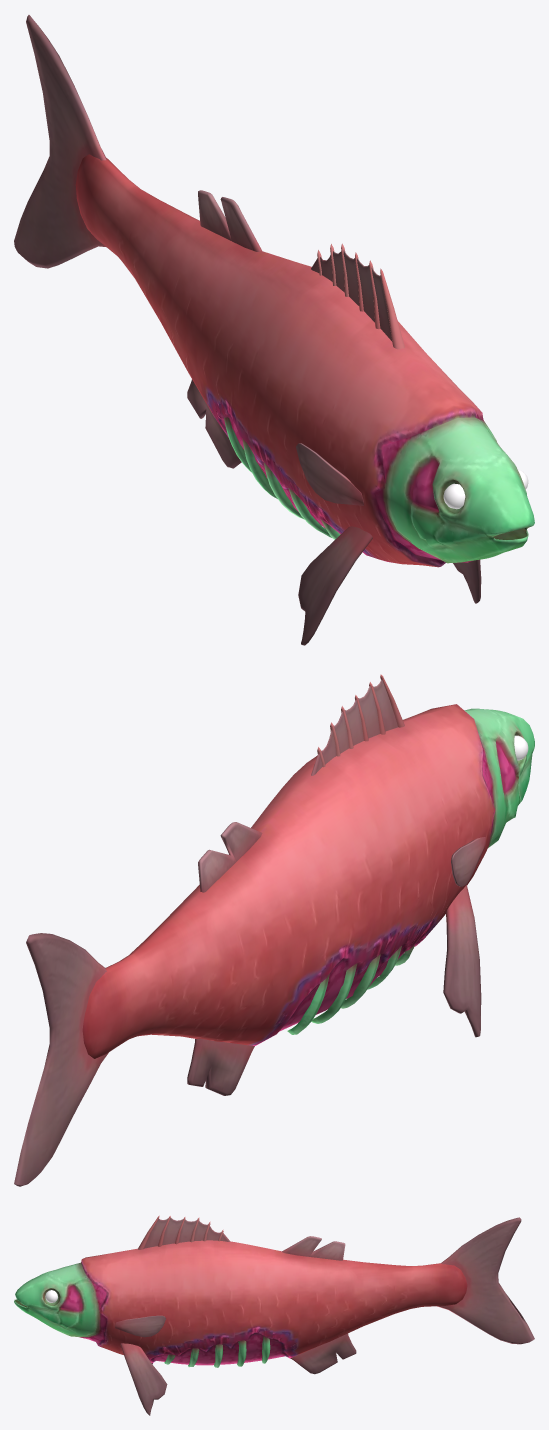
The picture shows the model from 3 angles, top to bottom: view 1: azimuth 30°, elevation 25°; view 2: azimuth 150°, elevation 25°; view 3: azimuth 270°, elevation 25°; orthographic projection. The views are drawn at different scales.
Parts seen in each view (by area): view 1: SM_Fish_Bass_Undead_01_LOD0; view 2: SM_Fish_Bass_Undead_01_LOD0; view 3: SM_Fish_Bass_Undead_01_LOD0.
Boxes of the visible parts, bbox=[...] form: SM_Fish_Bass_Undead_01_LOD0: bbox=[14, 15, 534, 645]; SM_Fish_Bass_Undead_01_LOD0: bbox=[14, 674, 534, 1186]; SM_Fish_Bass_Undead_01_LOD0: bbox=[14, 1215, 534, 1415].
Size of the model in its own units: 0.2243 by 0.4183 by 1.1.
Materials: 1 (1 with a texture image).
